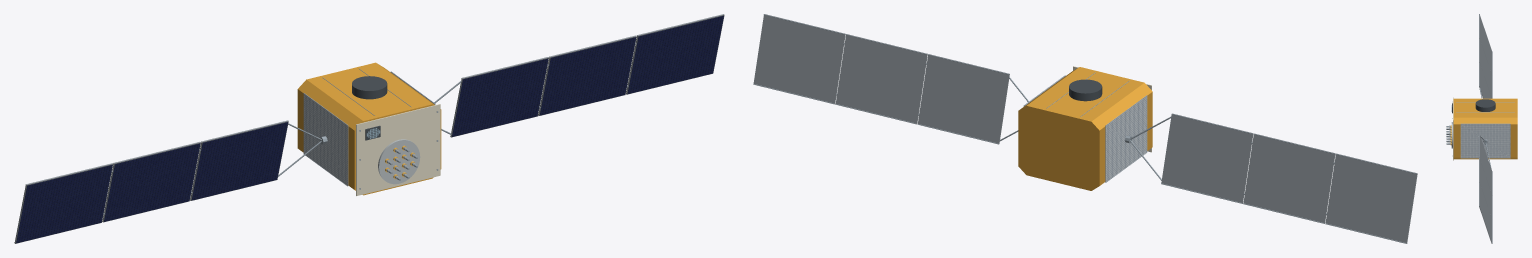
Rendered from beidou-2-meo.glb.
The picture shows the model from 3 angles, left to right: view 1: azimuth 30°, elevation 25°; view 2: azimuth 150°, elevation 25°; view 3: azimuth 270°, elevation 25°; orthographic projection. The views are drawn at different scales.
Visible parts, largest first — view 1: Solar cell strings (×6), Equipment bus, Earth-facing equipment deck, Optical solar reflector tiles, Solar leaf backsheet (×6), Navigation antenna ground plane, Apogee motor skirt; view 2: Solar leaf backsheet (×6), Equipment bus, Optical solar reflector tiles, Apogee motor skirt; view 3: Equipment bus, Solar leaf backsheet (×6), Optical solar reflector tiles, Apogee motor skirt, Earth-facing equipment deck, Blanket taped seam, Navigation antenna ground plane.
Boxes of the visible parts, box(x1,y1,x2,y2) form: Solar cell strings (×6): box(16, 15, 723, 243); Equipment bus: box(297, 62, 441, 195); Earth-facing equipment deck: box(356, 104, 440, 195); Optical solar reflector tiles: box(303, 93, 348, 185); Solar leaf backsheet (×6): box(14, 14, 724, 243); Navigation antenna ground plane: box(378, 139, 420, 184); Apogee motor skirt: box(352, 76, 387, 99); Solar leaf backsheet (×6): box(753, 14, 1417, 243); Equipment bus: box(1018, 67, 1152, 190); Optical solar reflector tiles: box(1105, 95, 1147, 182); Apogee motor skirt: box(1069, 79, 1102, 101); Equipment bus: box(1453, 98, 1517, 159); Solar leaf backsheet (×6): box(1479, 14, 1492, 243); Optical solar reflector tiles: box(1460, 124, 1510, 157); Apogee motor skirt: box(1475, 99, 1495, 111); Earth-facing equipment deck: box(1453, 97, 1453, 160); Blanket taped seam: box(1456, 112, 1514, 112); Navigation antenna ground plane: box(1451, 122, 1452, 148).
Bounding box in the file's own units: 17.7 × 2.01 × 2.78.
Materials: 10 (2 with a texture image).
